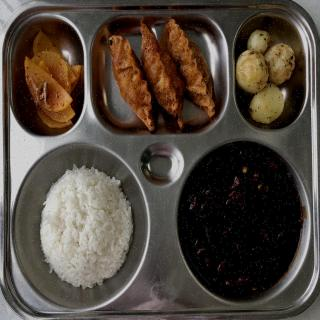Nasi: (34, 160, 141, 295)
